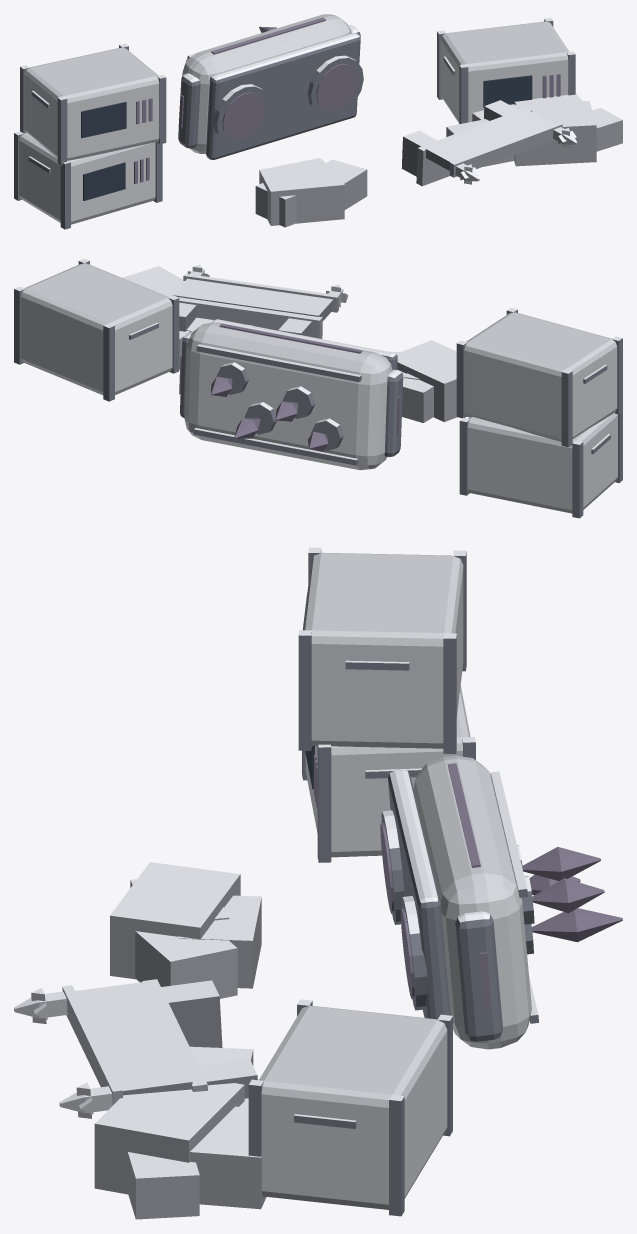
The model's file is PR_Barricada_A.fbx.
3 renders of one model, top to bottom at view 1: azimuth 30°, elevation 25°; view 2: azimuth 150°, elevation 25°; view 3: azimuth 270°, elevation 25°, orthographic. The views are drawn at different scales.
Visible parts, largest first — view 1: PR_Barricada_A; view 2: PR_Barricada_A; view 3: PR_Barricada_A.
Part boxes in pixels (box(x1,y1,x2,y2)): PR_Barricada_A: box(14, 14, 622, 229); PR_Barricada_A: box(14, 258, 622, 518); PR_Barricada_A: box(14, 547, 622, 1219).
Size of the model in its own units: 8.31 by 2.03 by 4.79.
